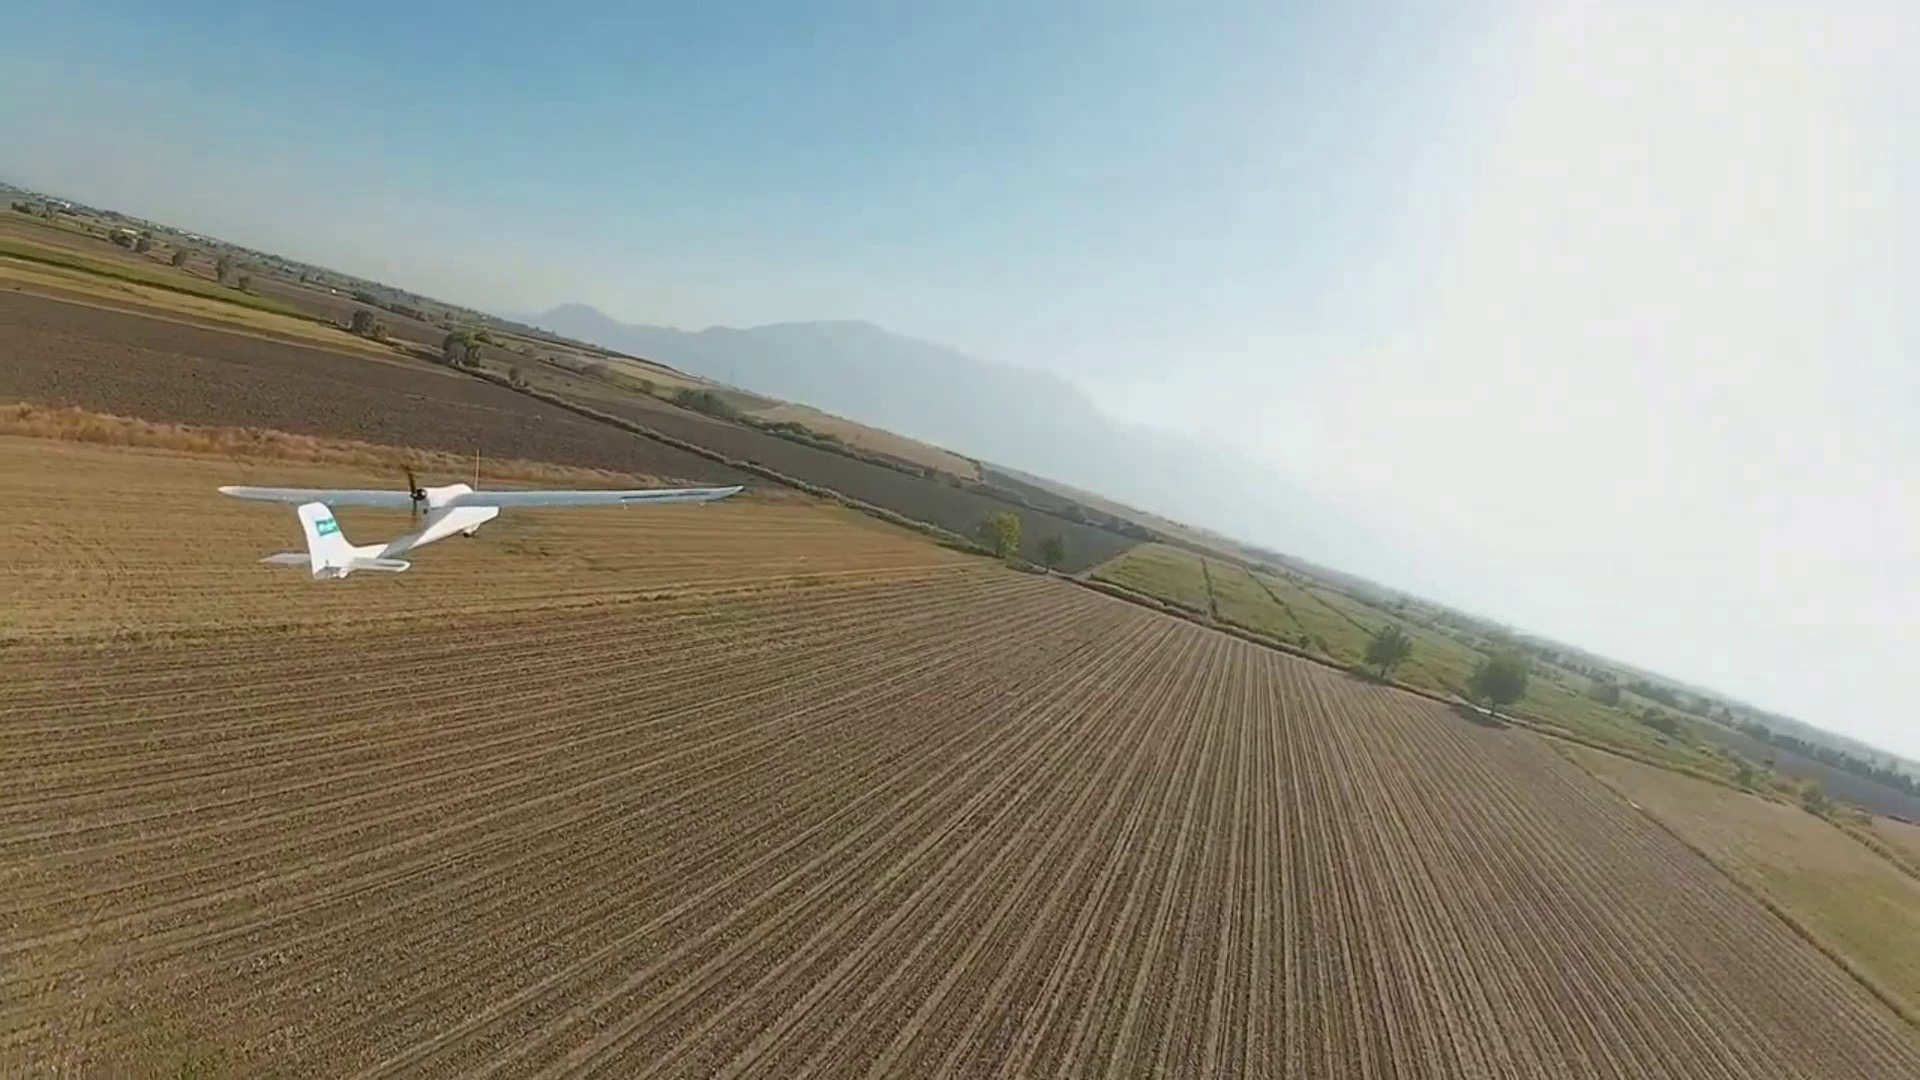airplane: (216, 479, 502, 578)
